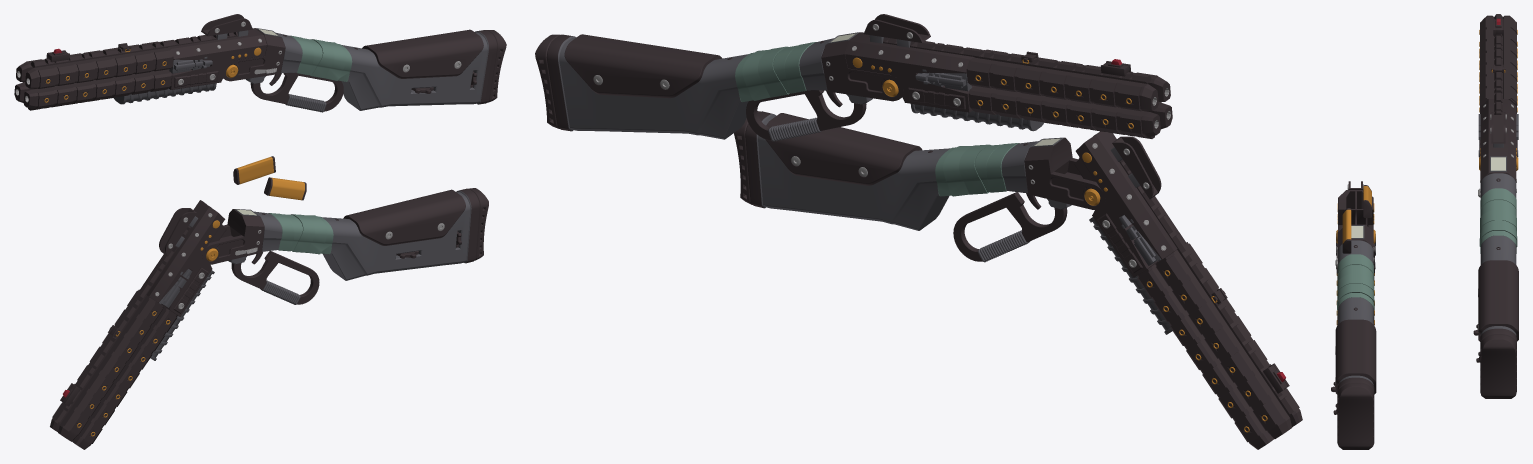
File: Apex_next.fbx
3 renders of one model, left to right at view 1: azimuth 30°, elevation 25°; view 2: azimuth 150°, elevation 25°; view 3: azimuth 270°, elevation 25°, orthographic. The views are drawn at different scales.
Parts seen in each view (by area): view 1: Cube.084, Cube.075, Cube.100, Cube.055, Cube.104, Cube.057, Cube.031, Cube.063, Cube.098, Cube.054, Cube.087, Cube.081 (+11 smaller); view 2: Cube.084, Cube.075, Cube.055, Cube.100, Cube.057, Cube.104, Cube.031, Cube.063, Cube.087, Cube.098, Cube.054, Cube.053 (+13 smaller); view 3: Cube.057, Cube.101, Cube.056, Cube.104, Cube.075, Cube.054, Cube.098, Cube.055, Cube.063, Cube.100, Cube.031, Cube.073 (+5 smaller).
Part boxes in pixels (x1,y1,x2,y2): Cube.084: [50, 289, 177, 449]; Cube.075: [14, 41, 173, 109]; Cube.100: [254, 190, 471, 280]; Cube.055: [276, 31, 488, 110]; Cube.104: [343, 189, 465, 245]; Cube.057: [362, 29, 483, 78]; Cube.031: [140, 200, 226, 316]; Cube.063: [167, 28, 267, 89]; Cube.098: [268, 213, 333, 254]; Cube.054: [290, 35, 352, 81]; Cube.087: [202, 209, 264, 264]; Cube.081: [55, 226, 191, 422]; Cube.084: [1137, 242, 1302, 449]; Cube.075: [966, 49, 1172, 137]; Cube.055: [558, 36, 833, 139]; Cube.100: [756, 114, 1038, 230]; Cube.057: [564, 34, 722, 98]; Cube.104: [765, 113, 922, 185]; Cube.031: [1074, 131, 1185, 277]; Cube.063: [845, 32, 974, 112]; Cube.087: [1024, 137, 1105, 209]; Cube.098: [935, 143, 1019, 196]; Cube.054: [735, 42, 815, 102]; Cube.053: [821, 32, 903, 101]; Cube.057: [1478, 260, 1518, 341]; Cube.101: [1337, 377, 1374, 449]; Cube.056: [1480, 328, 1516, 398]; Cube.104: [1335, 319, 1376, 394]; Cube.075: [1480, 15, 1516, 113]; Cube.054: [1479, 188, 1517, 253]; Cube.098: [1337, 254, 1374, 316]; Cube.055: [1480, 173, 1516, 335]; Cube.063: [1480, 99, 1516, 162]; Cube.100: [1338, 240, 1373, 385]; Cube.031: [1338, 190, 1373, 226]; Cube.073: [1494, 14, 1502, 114].
Size of the model in its own units: 1742 by 1090 by 527.
